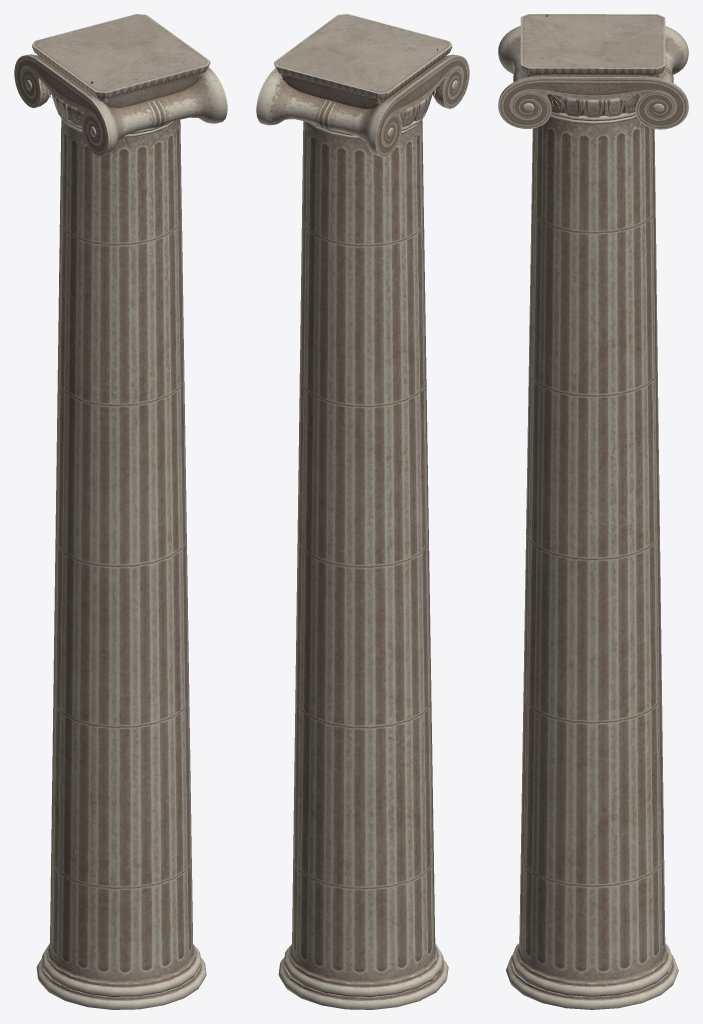
Rendered from lattice_column2.glb.
3 views of the same model, side by side, from view 1: azimuth 30°, elevation 25°; view 2: azimuth 150°, elevation 25°; view 3: azimuth 270°, elevation 25° (orthographic).
Parts seen in each view (by area): view 1: sloup1_lp, sloup5_lp, sloup4_lp; view 2: sloup1_lp, sloup5_lp, sloup4_lp; view 3: sloup1_lp, sloup5_lp, sloup4_lp, sloup3_lp.
Part boxes in pixels (bbox=[...]): sloup1_lp: bbox=[36, 117, 206, 1009]; sloup5_lp: bbox=[32, 14, 210, 107]; sloup4_lp: bbox=[14, 54, 227, 155]; sloup1_lp: bbox=[278, 118, 448, 1009]; sloup5_lp: bbox=[274, 14, 452, 108]; sloup4_lp: bbox=[256, 54, 469, 157]; sloup1_lp: bbox=[506, 114, 678, 1009]; sloup5_lp: bbox=[520, 14, 665, 77]; sloup4_lp: bbox=[498, 26, 688, 129]; sloup3_lp: bbox=[547, 94, 639, 117].
Size of the model in its own units: 9.55 by 56.88 by 10.53.
1 material, 1 textured.
